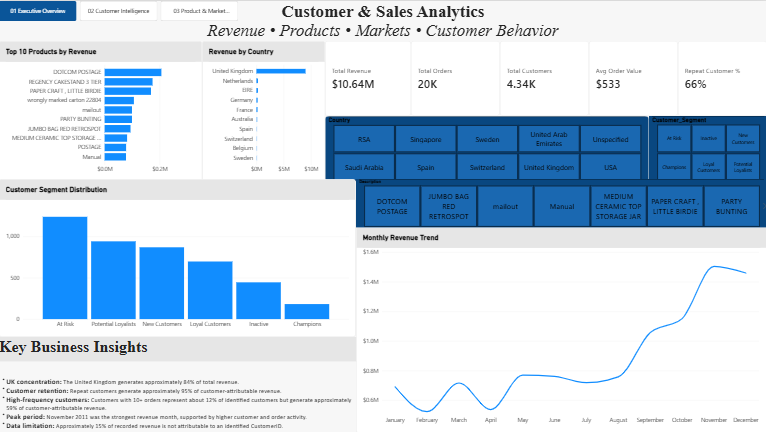

This screenshot's page, from the dashboard's own definition file:
{"tool":"powerbi","page":{"name":"01 Executive Overview","canvas":[1920,1080],"ordinal":0},"visuals":[{"type":"cardVisual","fields":{"Data":["Table = Measures.Total Revenue"]},"box":[815,100,215,187.5],"z":0},{"type":"cardVisual","fields":{"Data":["Table = Measures.Total Orders"]},"box":[1030,100,222.5,187.5],"z":1000},{"type":"cardVisual","fields":{"Data":["Table = Measures.Total Customers"]},"box":[1252.5,100,222.5,187.5],"z":2000},{"type":"cardVisual","fields":{"Data":["Table = Measures.Repeat Customer %"]},"box":[1697.5,100,222.5,187.5],"z":3000},{"type":"cardVisual","fields":{"Data":["Table = Measures.Average Order Value"]},"box":[1475,100,222.5,187.5],"z":4000},{"type":"lineChart","title":"Monthly Revenue Trend","fields":{"Category":["customer_sales_analytics dim_date.DateValue.Variation.Date Hierarchy.Month"],"Y":["Table = Measures.Total Revenue"]},"box":[892.5,565,1027.5,515],"z":5000},{"type":"barChart","title":"Revenue by Country","fields":{"Category":["customer_sales_analytics dim_country.Country"],"Y":["Table = Measures.Total Revenue"]},"box":[507.5,100,307.5,352.5],"z":6000},{"type":"barChart","title":"Top 10 Products by Revenue","fields":{"Category":["customer_sales_analytics dim_product.Description"],"Y":["Table = Measures.Total Revenue"]},"box":[0,100,507.5,352.5],"z":7000},{"type":"textbox","title":"Key Business Insights","box":[0,840,892.5,240],"z":8000},{"type":"slicer","fields":{"Values":["customer_sales_analytics dim_country.Country"]},"box":[814.3,287.3,810,164.2],"z":9000},{"type":"columnChart","title":"Customer Segment Distribution","fields":{"Category":["customer_sales_analytics dim_customer_rfm.Customer_Segment"],"Y":["CountNonNull(customer_sales_analytics dim_customer_rfm.CustomerID)"]},"box":[0,445,892.1,395.3],"z":10000},{"type":"slicer","fields":{"Values":["customer_sales_analytics dim_customer_rfm.Customer_Segment"]},"box":[1624.3,287.3,295.9,164.2],"z":11000},{"type":"actionButton","box":[0,0,100,40],"z":12000},{"type":"slicer","fields":{"Values":["customer_sales_analytics dim_product.Description"]},"box":[892.1,445,1028.2,121],"z":13000},{"type":"textbox","box":[0,0,1920,100],"z":14000},{"type":"pageNavigator","box":[0,0,600,50],"z":14001}]}

Visuals, with their boxes in screenshot pixels (x1, y1, x2, y2), scaled from the page's 1920x1080 canvas onto the 766x432 screenshot:
cardVisual - Table = Measures.Total Revenue: rect(325, 40, 411, 115)
cardVisual - Table = Measures.Total Orders: rect(411, 40, 500, 115)
cardVisual - Table = Measures.Total Customers: rect(500, 40, 588, 115)
cardVisual - Table = Measures.Repeat Customer %: rect(677, 40, 765, 115)
cardVisual - Table = Measures.Average Order Value: rect(588, 40, 677, 115)
"Monthly Revenue Trend" lineChart: rect(356, 226, 765, 431)
"Revenue by Country" barChart: rect(202, 40, 325, 181)
"Top 10 Products by Revenue" barChart: rect(0, 40, 202, 181)
"Key Business Insights" textbox: rect(0, 336, 356, 431)
slicer - customer_sales_analytics dim_country.Country: rect(325, 115, 648, 181)
"Customer Segment Distribution" columnChart: rect(0, 178, 356, 336)
slicer - customer_sales_analytics dim_customer_rfm.Customer_Segment: rect(648, 115, 765, 181)
actionButton: rect(0, 0, 40, 16)
slicer - customer_sales_analytics dim_product.Description: rect(356, 178, 765, 226)
textbox: rect(0, 0, 765, 40)
pageNavigator: rect(0, 0, 239, 20)
